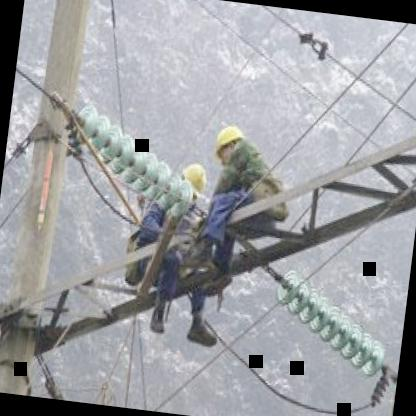helmet: (210, 120, 248, 168), (178, 158, 211, 198)
